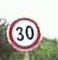limite 30: (5, 17, 41, 51)
